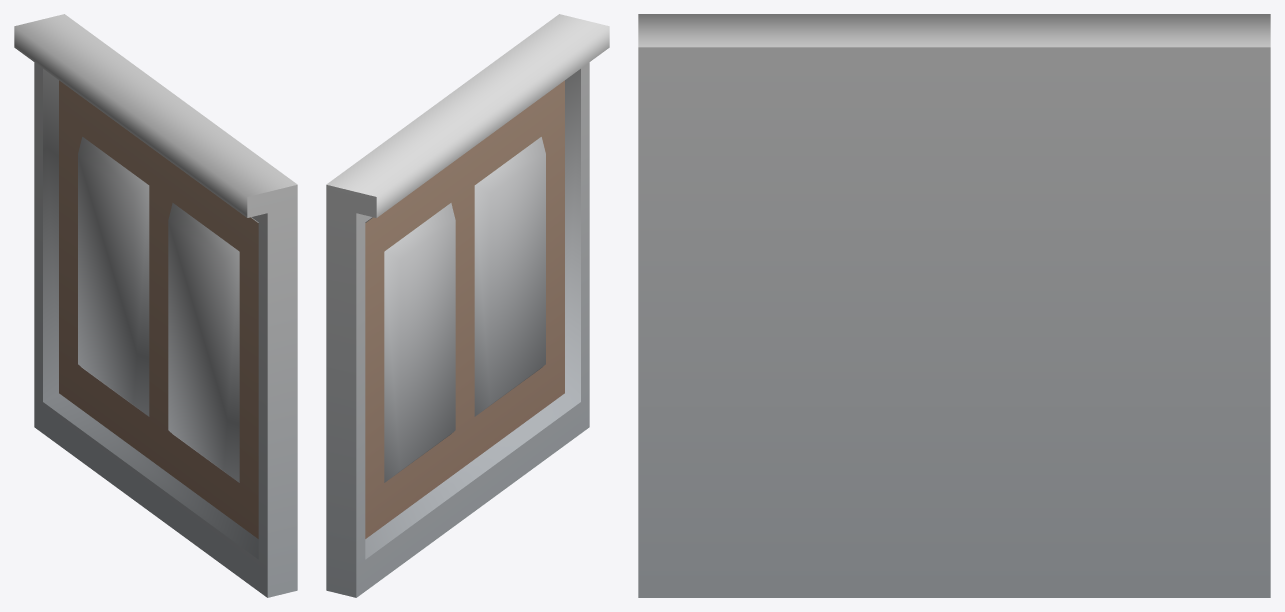
Rendered from paneling-b (%wall).glb.
The picture shows the model from 3 angles, left to right: view 1: azimuth 30°, elevation 25°; view 2: azimuth 150°, elevation 25°; view 3: azimuth 270°, elevation 25°; orthographic projection. The views are drawn at different scales.
Parts seen in each view (by area): view 1: paneling-b (%wall); view 2: paneling-b (%wall); view 3: paneling-b (%wall).
Boxes of the visible parts, x1=… form: paneling-b (%wall): x1=14, y1=14, x2=297, y2=597; paneling-b (%wall): x1=326, y1=14, x2=609, y2=597; paneling-b (%wall): x1=638, y1=14, x2=1270, y2=597.
Bounding box in the file's own units: 0.125 × 0.9604 × 1.
